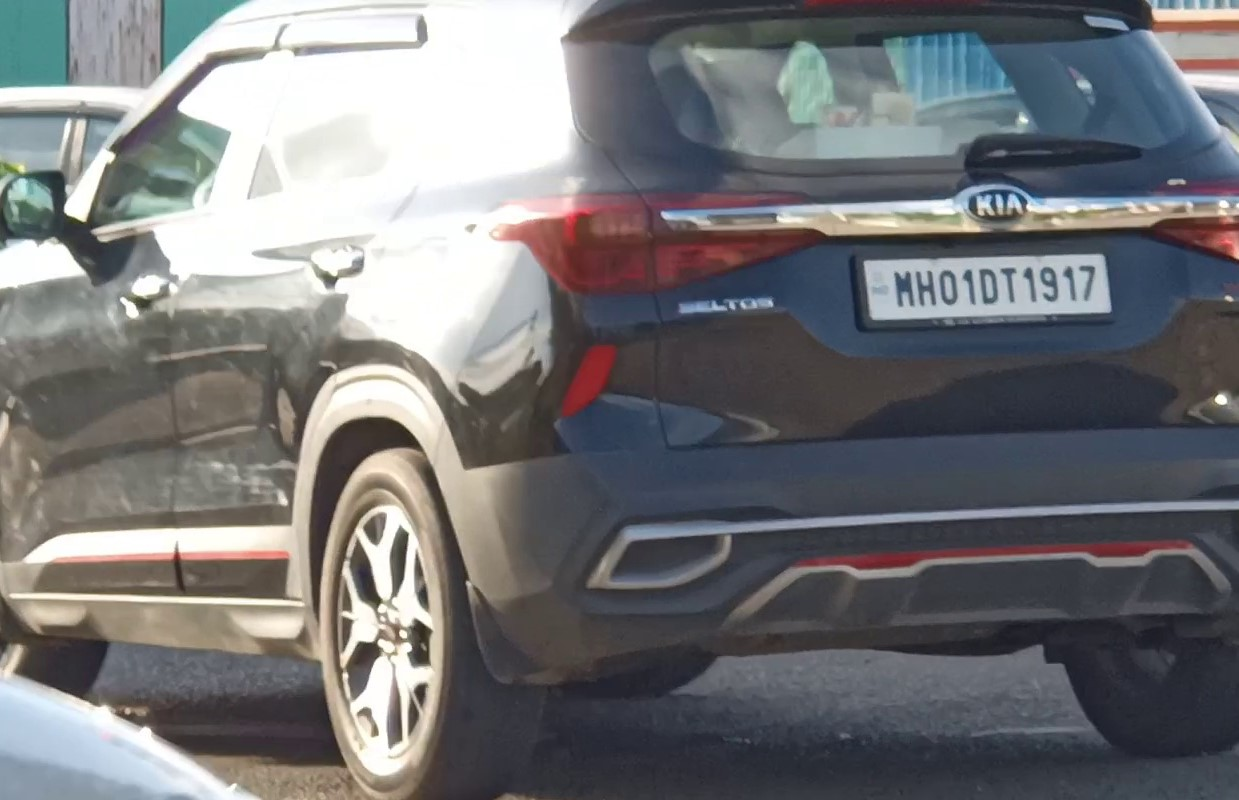MH01DT1917: (858, 256, 1116, 320)
